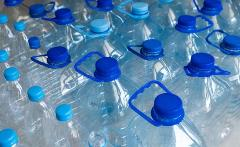plastic: (165, 52, 238, 147), (73, 51, 132, 147), (126, 80, 208, 147), (119, 39, 172, 95), (0, 128, 36, 147)
